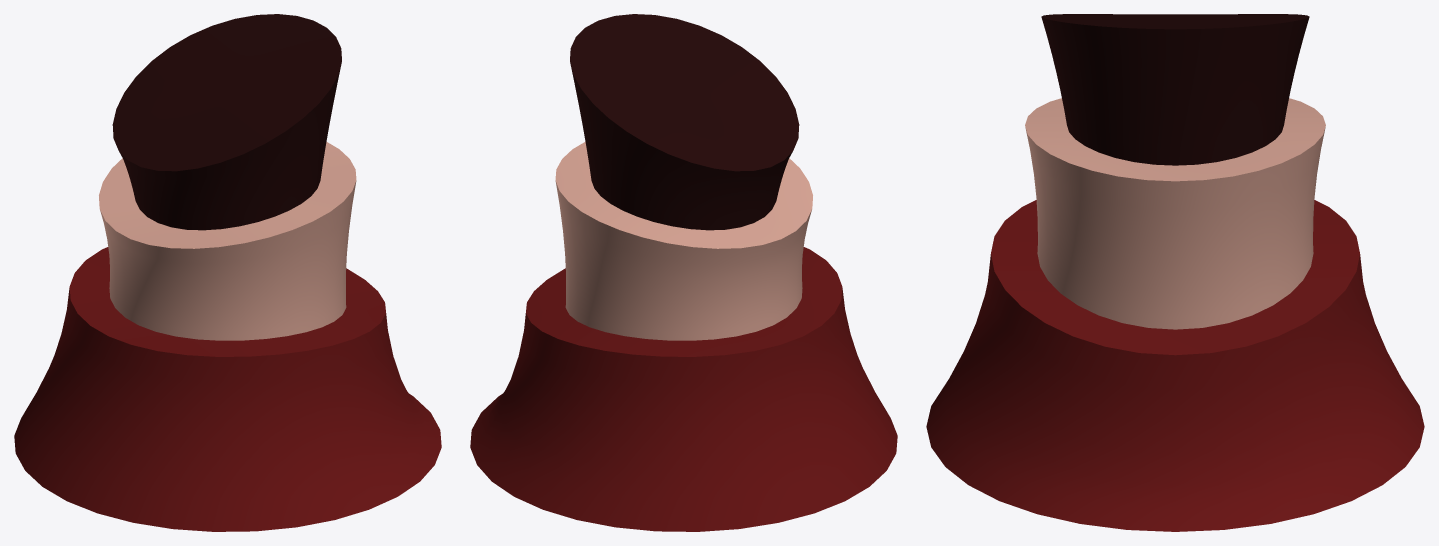
The model's file is 3D_Cake_2.FBX.
3 renders of one model, left to right at view 1: azimuth 30°, elevation 25°; view 2: azimuth 150°, elevation 25°; view 3: azimuth 270°, elevation 25°, orthographic. The views are drawn at different scales.
Visible parts, largest first — view 1: 3D_Cake_2; view 2: 3D_Cake_2; view 3: 3D_Cake_2.
Boxes of the visible parts, bbox=[...] form: 3D_Cake_2: bbox=[14, 14, 441, 531]; 3D_Cake_2: bbox=[470, 14, 897, 531]; 3D_Cake_2: bbox=[926, 14, 1424, 531].
Bounding box in the file's own units: 731 × 734 × 731.
